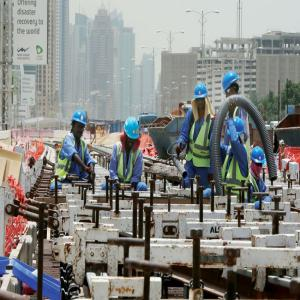blue: (122, 117, 140, 150), (223, 71, 241, 97), (72, 109, 87, 140), (194, 83, 209, 112), (231, 116, 245, 145), (251, 147, 265, 176)
